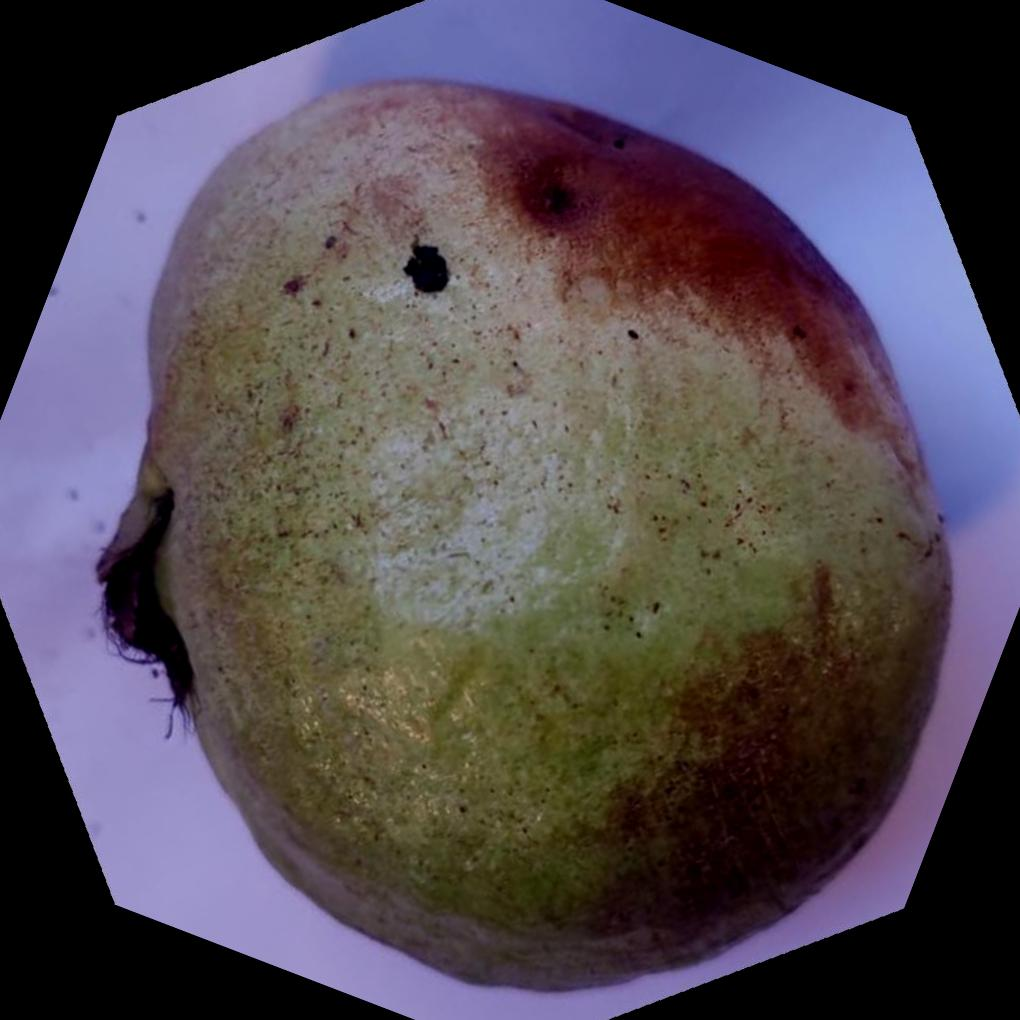FreshOrange: (92, 74, 951, 993)
